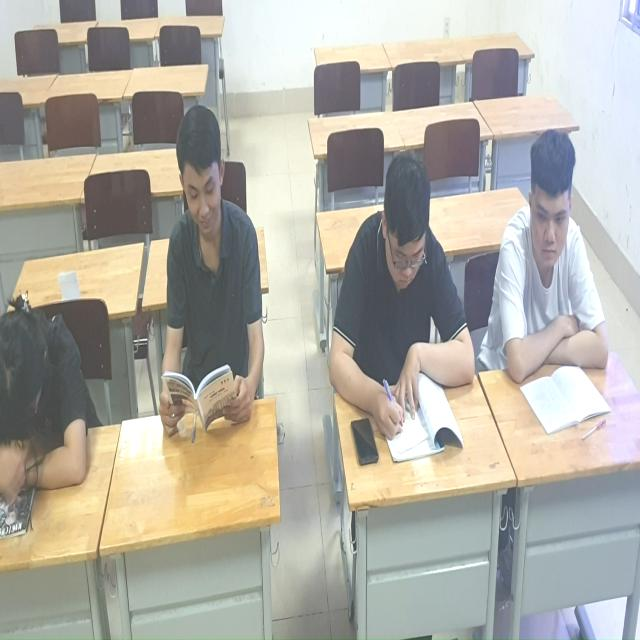read: (331, 139, 491, 457), (155, 86, 283, 470), (496, 94, 617, 428)
sleep: (1, 295, 101, 524)
